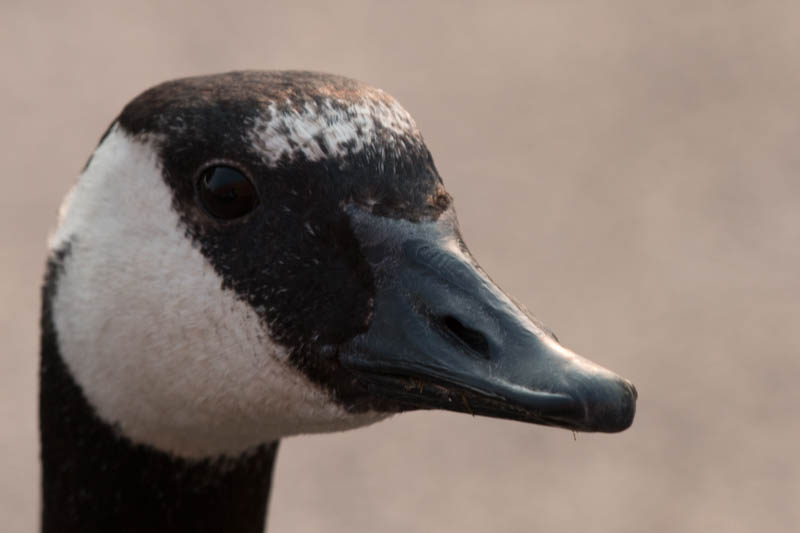goose-head: (37, 69, 637, 459)
